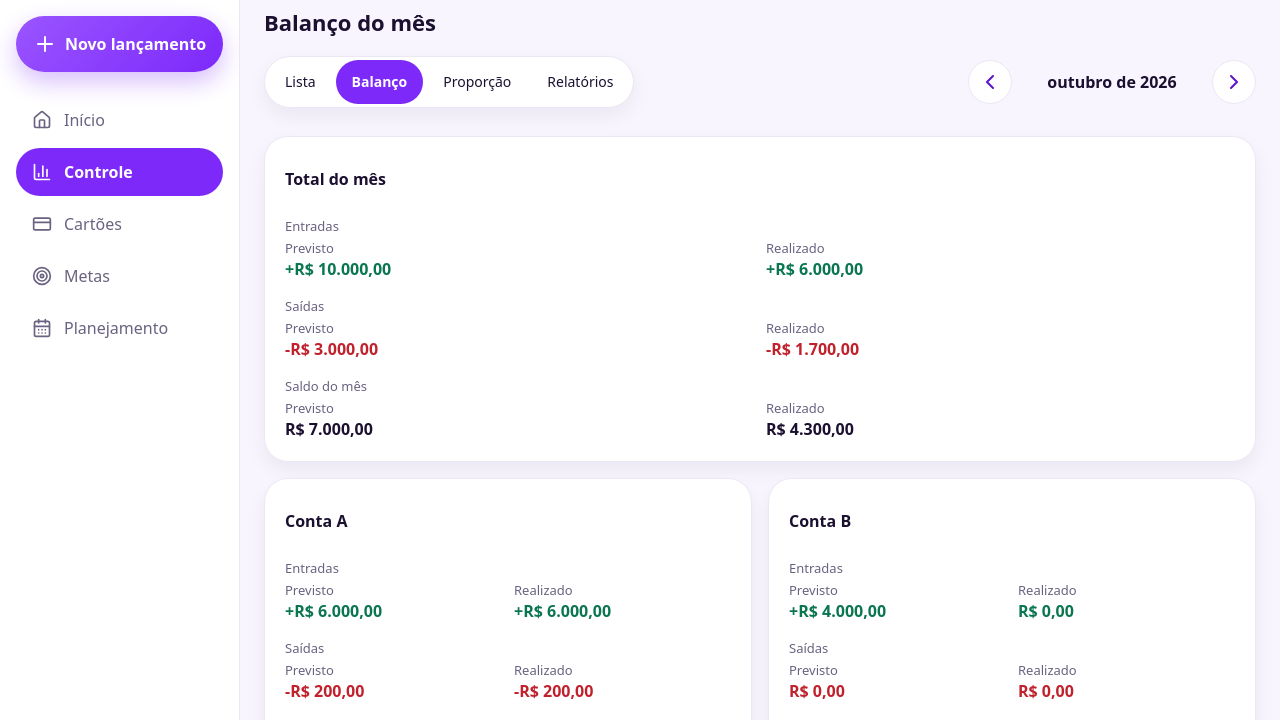
Scenario: Balanco (CA-5.01, CA-5.02, CA-5.03) › trocar o mês no seletor consulta o balanço do novo mês
Expected: the heading "Total do mês" is shown, [285, 168, 386, 190]
Click the button named "mês anterior". click: [990, 82]
box: [968, 60, 1012, 104]
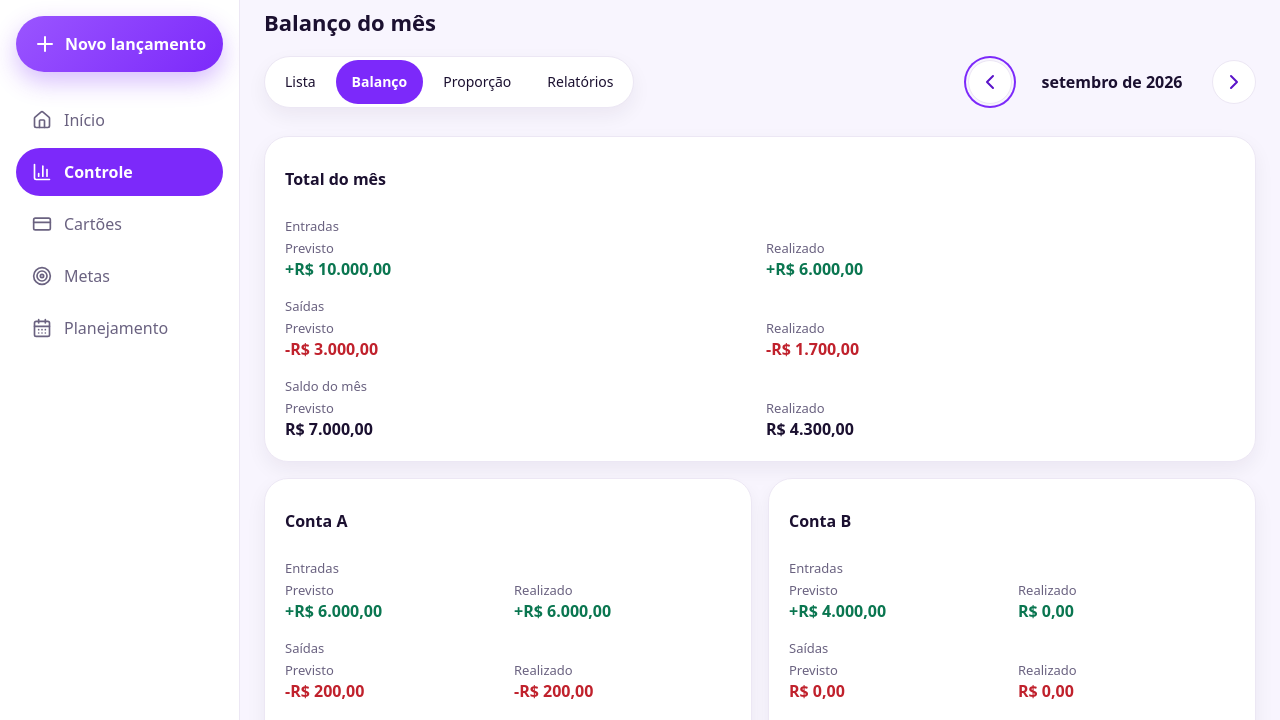
Expected: the text "setembro de 2026" is shown, [1042, 71, 1182, 93]
